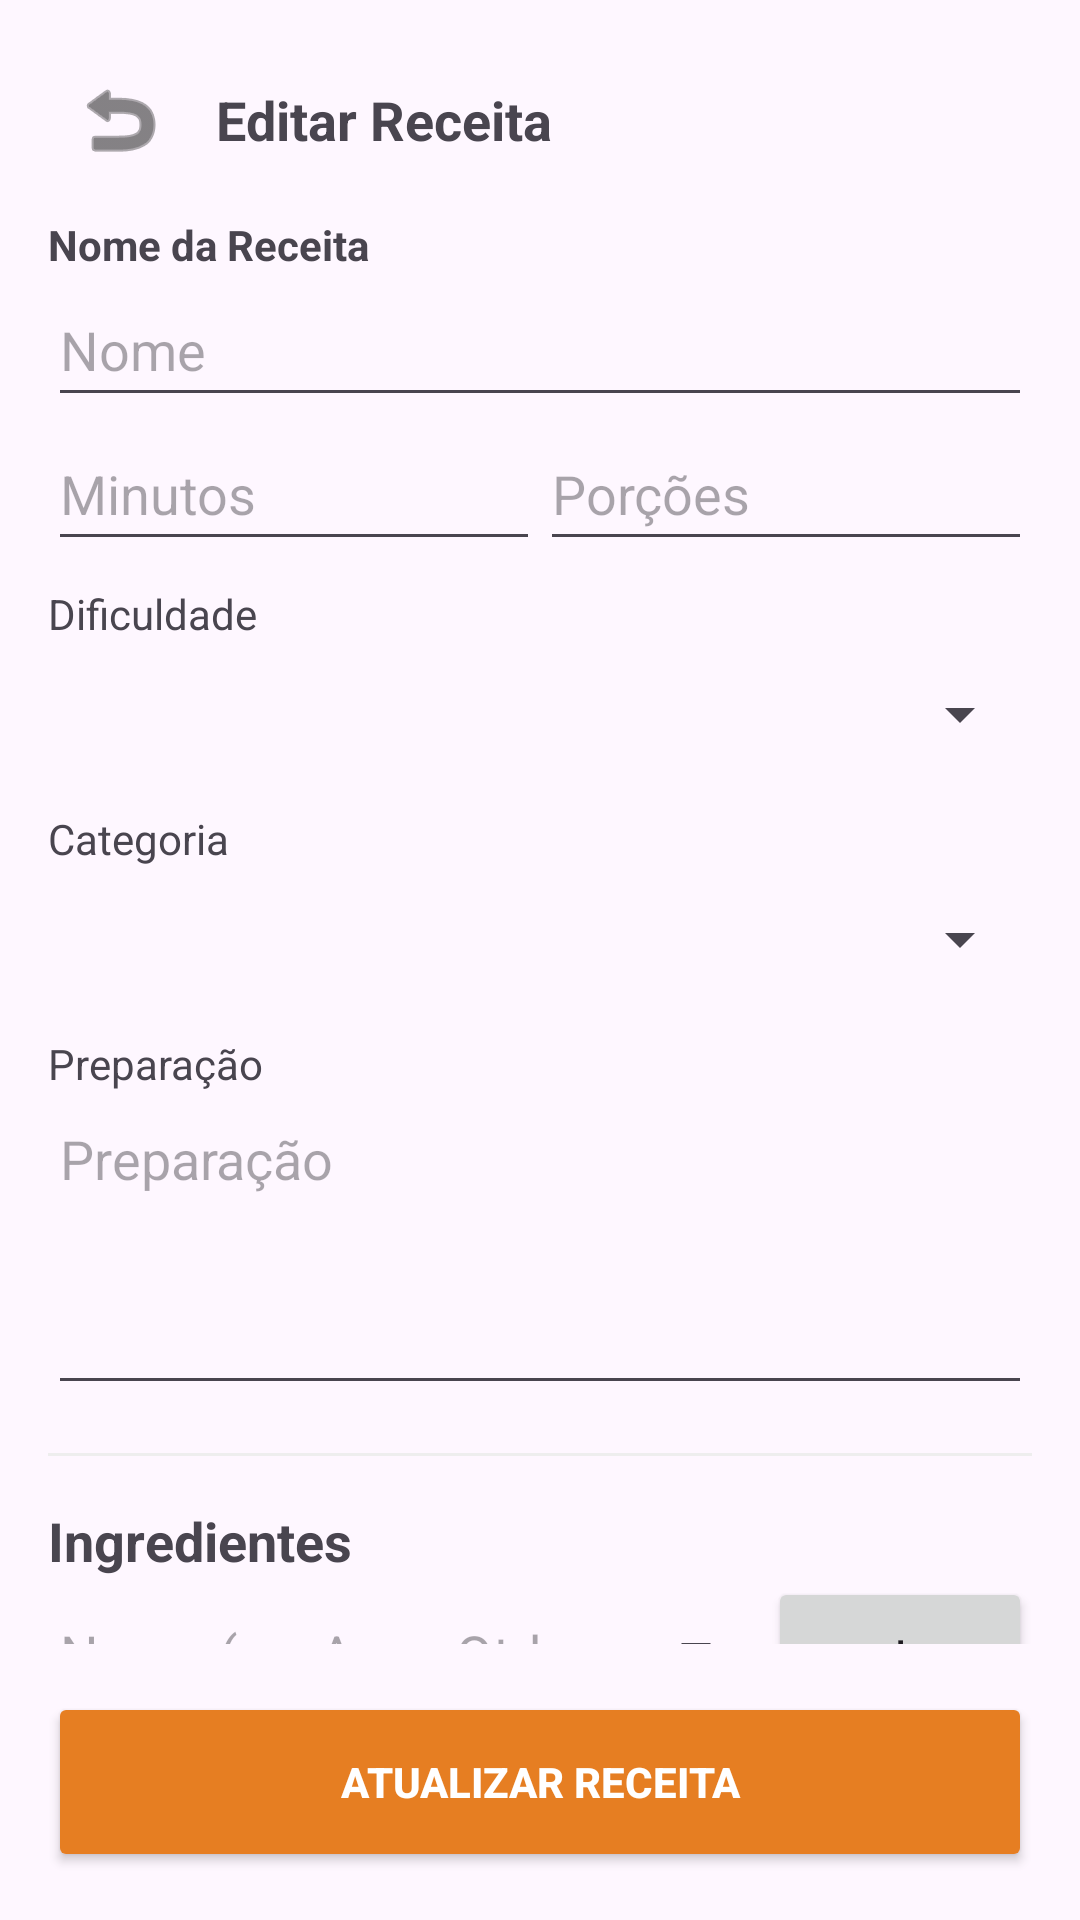

Named icons in this screenshot (1080x1920) and their centers, (x,y):
Voltar: (121,120)
